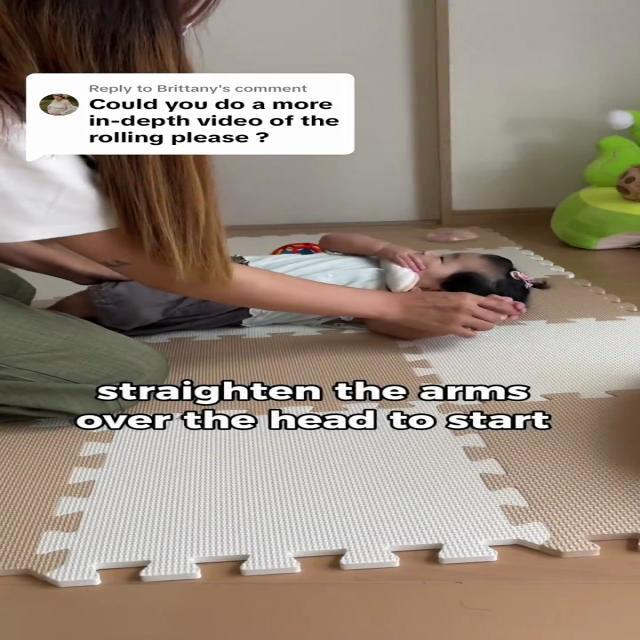baby: (42, 236, 548, 336)
